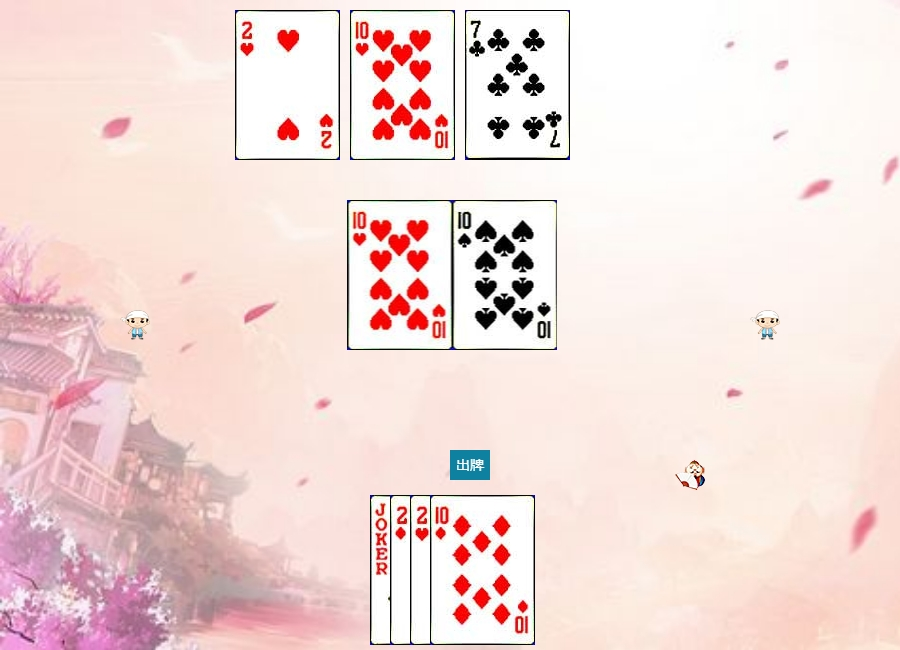10~1: (430, 495, 535, 645)
10~3: (350, 10, 455, 160), (348, 200, 453, 350)
10~4: (453, 200, 558, 350)
15~1: (390, 495, 495, 645)
15~3: (235, 10, 340, 160), (410, 495, 515, 645)
18~4: (370, 495, 475, 645)
7~2: (465, 10, 570, 160)
